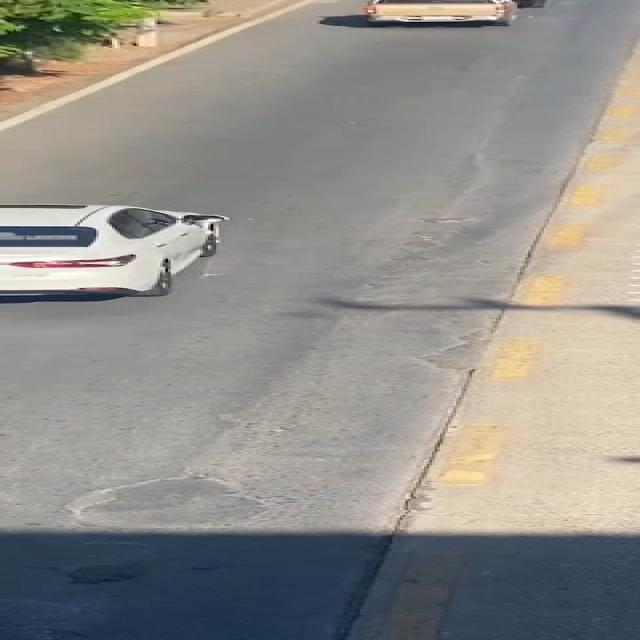car: (0, 187, 248, 318), (349, 0, 530, 27)
